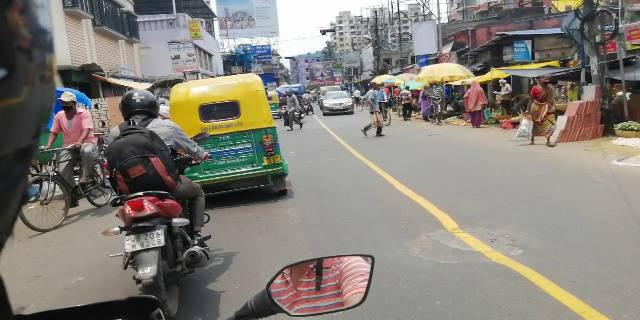Autorickshaw: (165, 71, 294, 208)
Car: (317, 87, 357, 118)
Cycle: (16, 89, 115, 234)
Motorbike: (98, 85, 214, 317)
